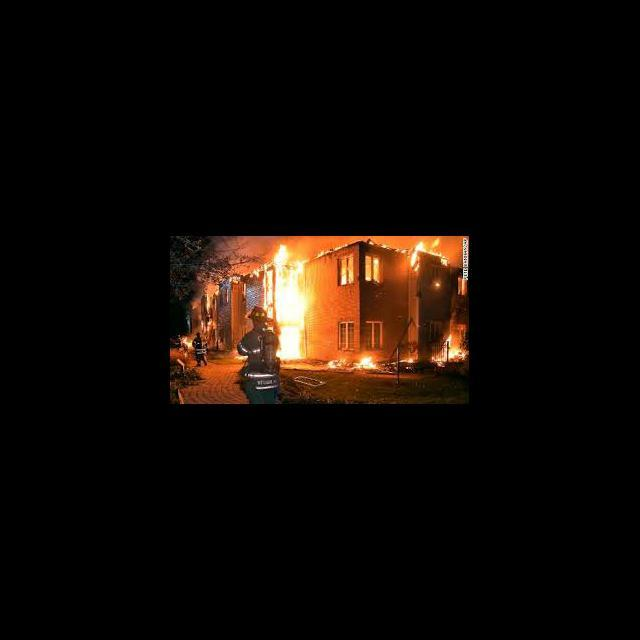Fire: (264, 242, 310, 362), (408, 236, 452, 273), (428, 330, 468, 368), (356, 354, 379, 372), (326, 356, 342, 369), (180, 334, 192, 349), (341, 266, 348, 287), (205, 296, 212, 312), (406, 354, 416, 364), (364, 274, 372, 284), (207, 321, 211, 332), (374, 258, 379, 266), (200, 321, 203, 331)
